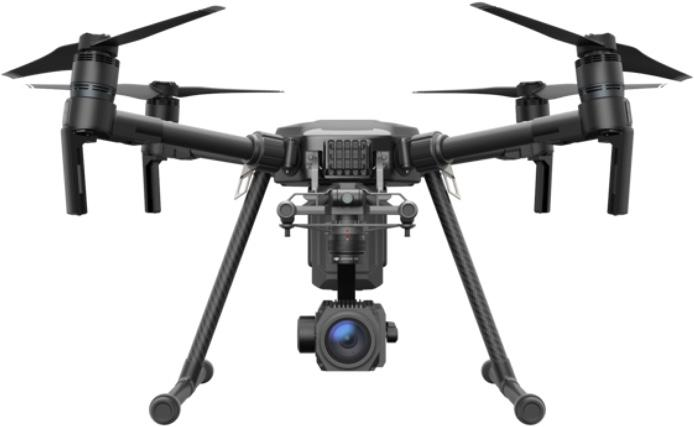drone: (10, 8, 687, 253)
